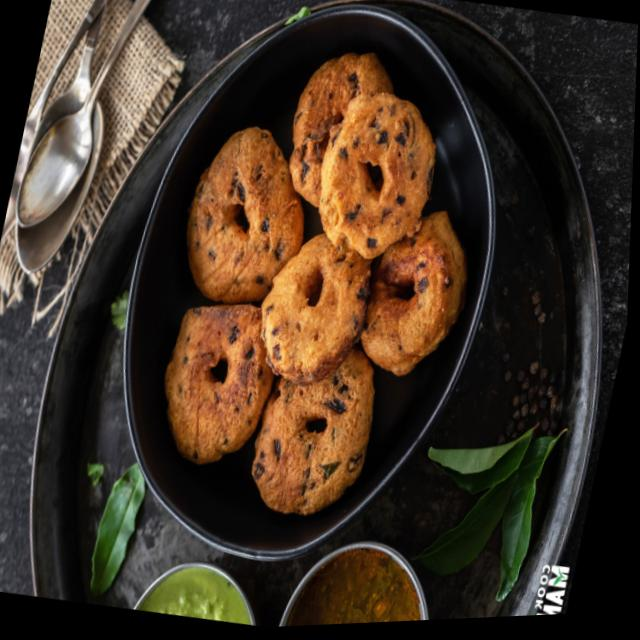VADA: (167, 44, 465, 513)
